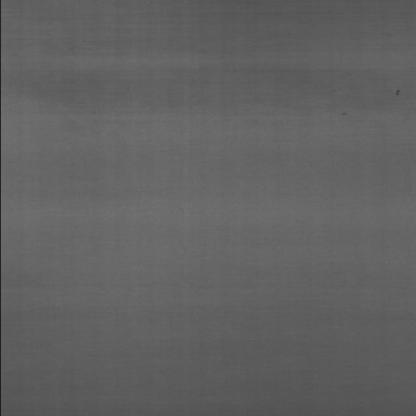inclusion: (330, 108, 364, 122), (386, 85, 416, 99)
